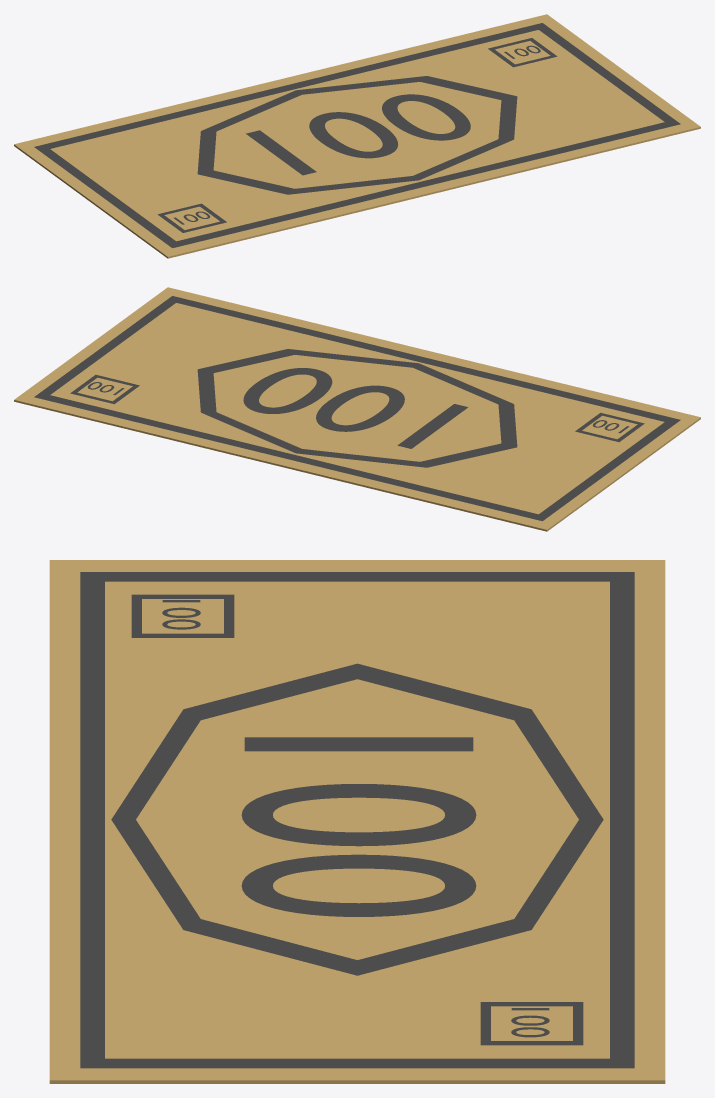
Rendered from 100 Dollar.fbx.
The picture shows the model from 3 angles, top to bottom: view 1: azimuth 30°, elevation 25°; view 2: azimuth 150°, elevation 25°; view 3: azimuth 270°, elevation 25°; orthographic projection. The views are drawn at different scales.
Visible parts, largest first — view 1: 100 Dollar; view 2: 100 Dollar; view 3: 100 Dollar.
Part boxes in pixels (<box>): 100 Dollar: <box>14,14,700,258</box>; 100 Dollar: <box>14,287,700,531</box>; 100 Dollar: <box>49,560,665,1083</box>.
Bounding box in the file's own units: 120 × 60 × 0.6564.
